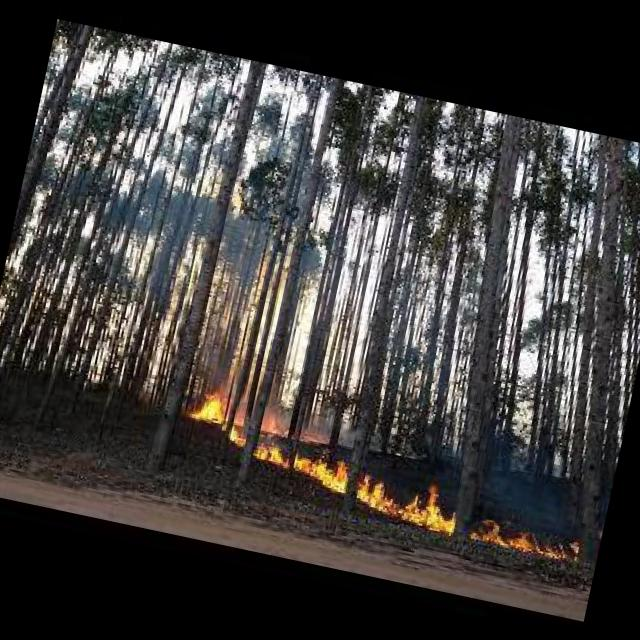Fire: (470, 511, 580, 568), (360, 472, 460, 534), (172, 381, 255, 445), (288, 446, 355, 496), (248, 438, 292, 467)
